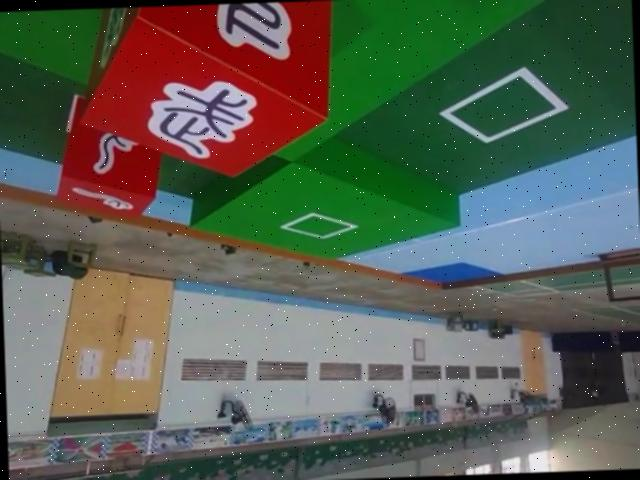R2 Fake: (72, 0, 337, 185)
R2 Real: (51, 87, 163, 229)
